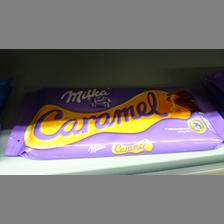Schokolade: (18, 82, 222, 156)
